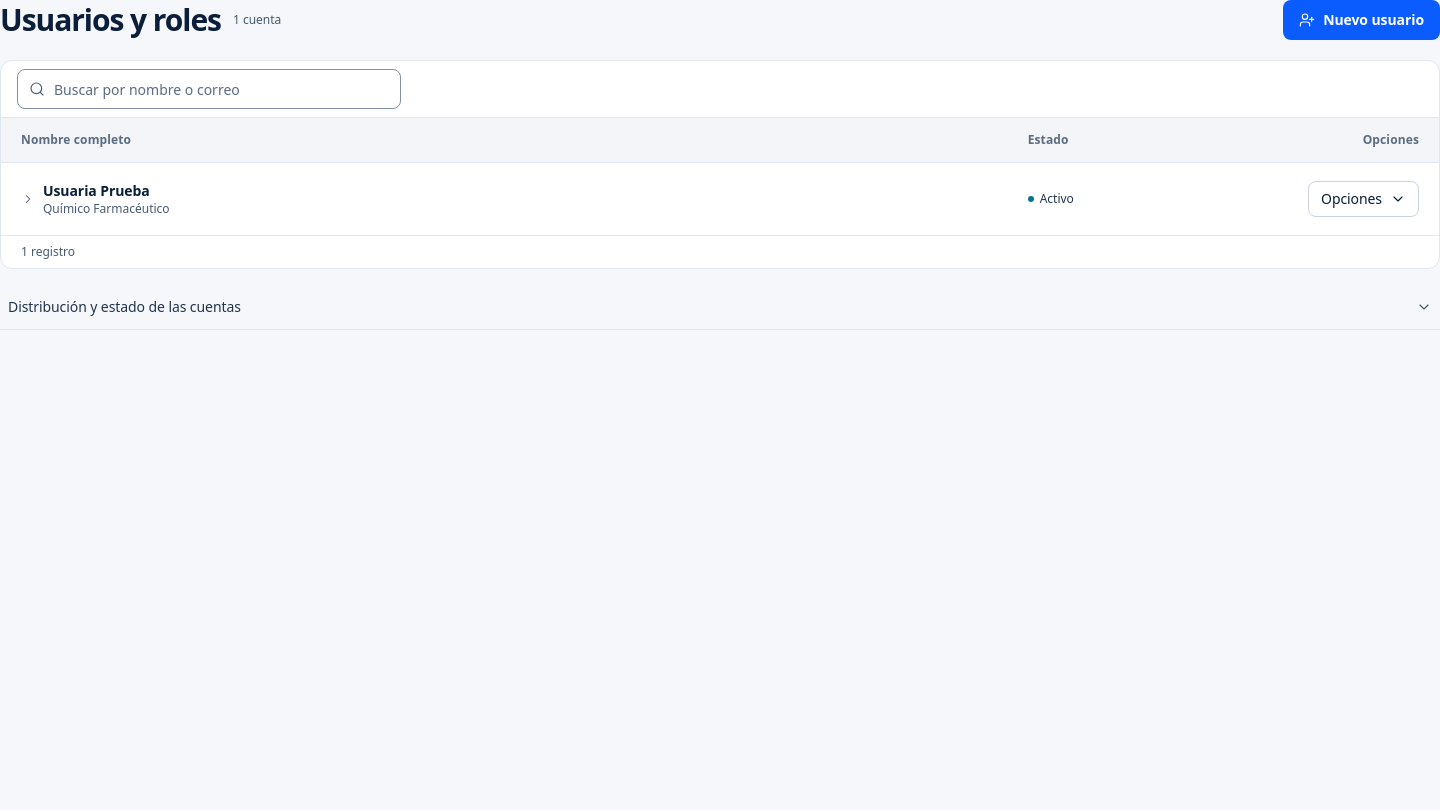
it: UsuariosPage (HU-41, HU-45, RF-17) › tras crear explica la activación (codigo_activacion_emitido=true)
Click the button "Nuevo usuario" at point(1362, 20), box [1283, 0, 1439, 40]
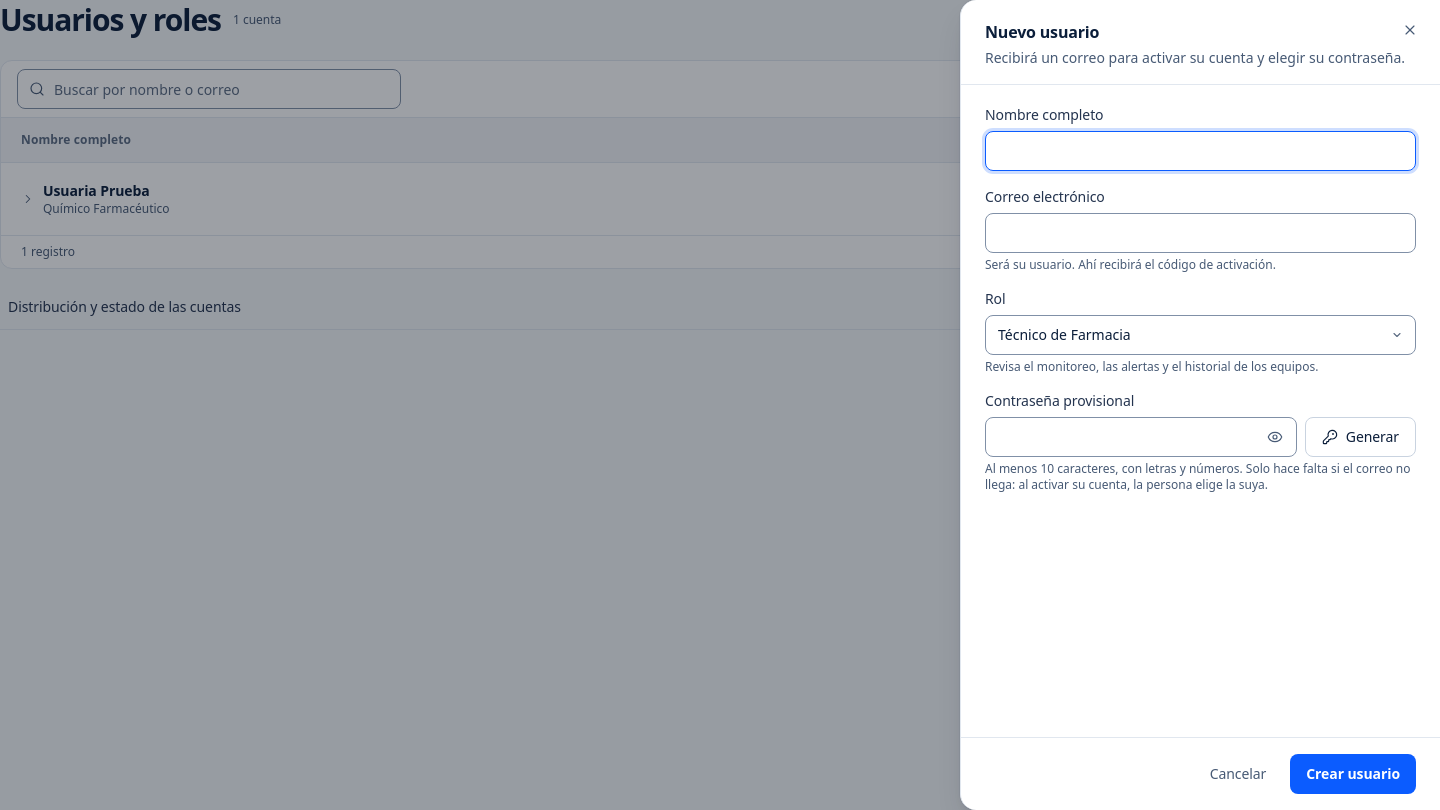
Type "Ana Prueba" into the field labelled "Nombre completo" at point(1200, 151), box [985, 131, 1416, 171]
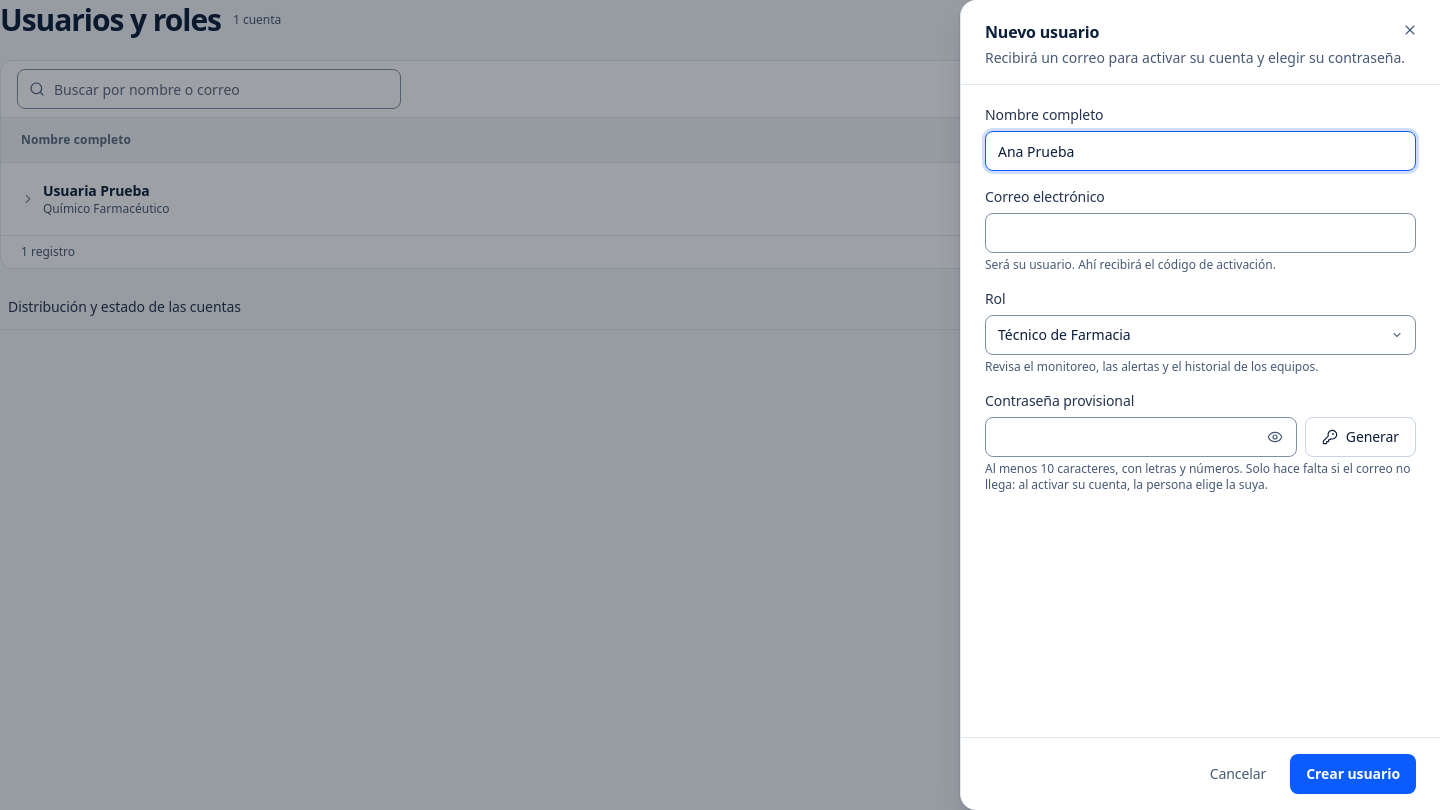
Type "ana@prueba.pe" into the field labelled "Correo electrónico" at point(1200, 233), box [985, 213, 1416, 253]
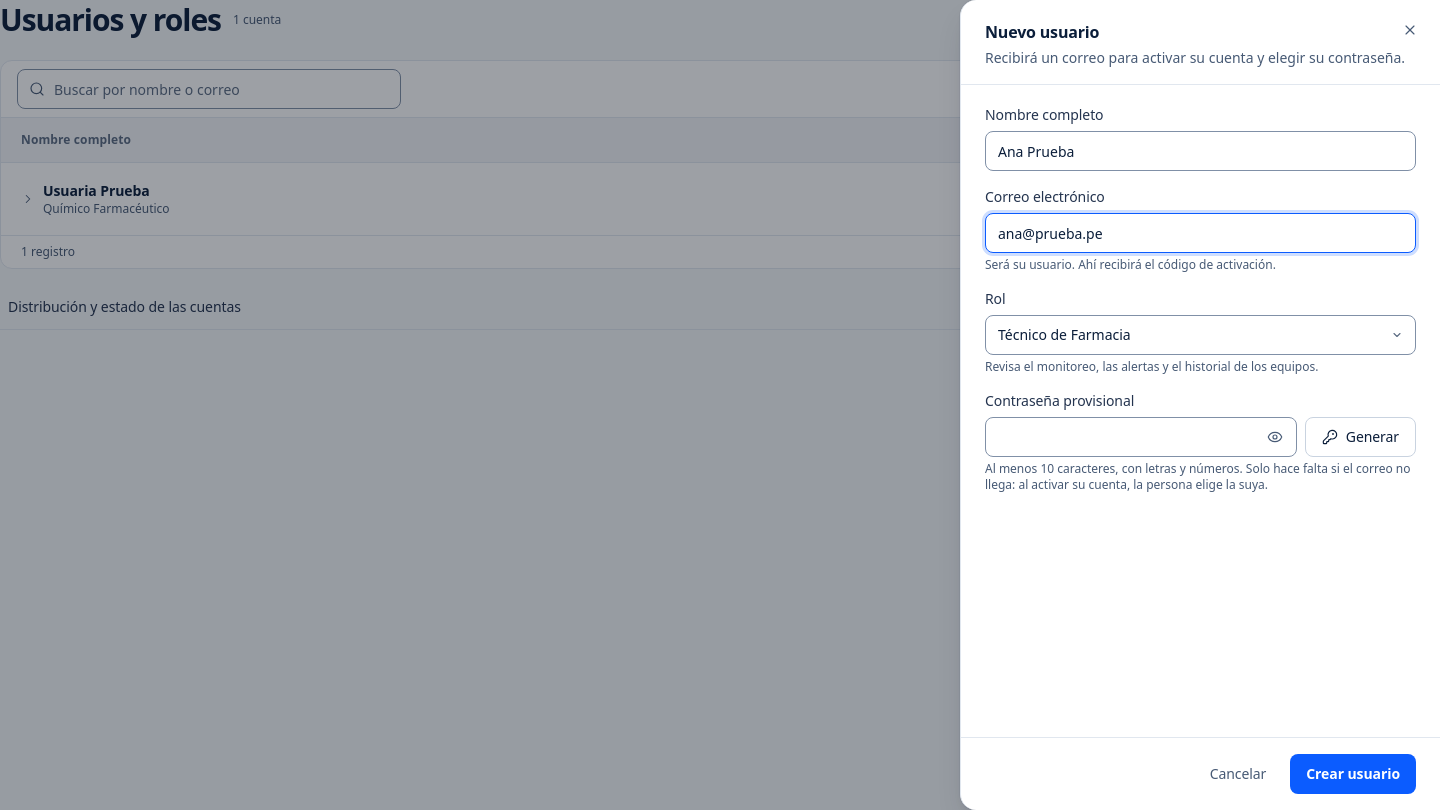
Type "Clave-Segura-2026x" into the password field labelled "Contraseña provisional" at point(1141, 437), box [985, 417, 1297, 457]
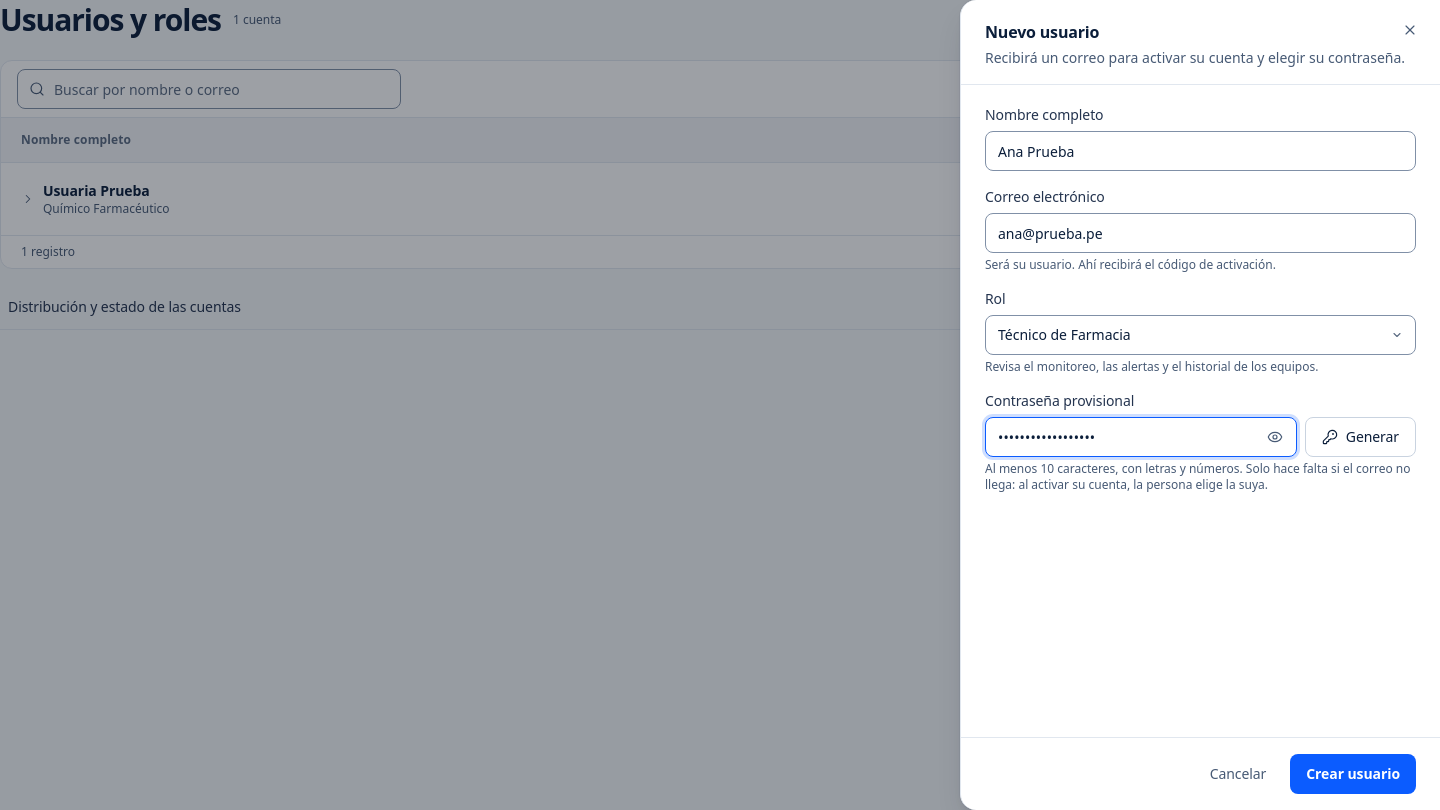
Click the button "Crear usuario" at point(1353, 774), box [1290, 754, 1416, 794]
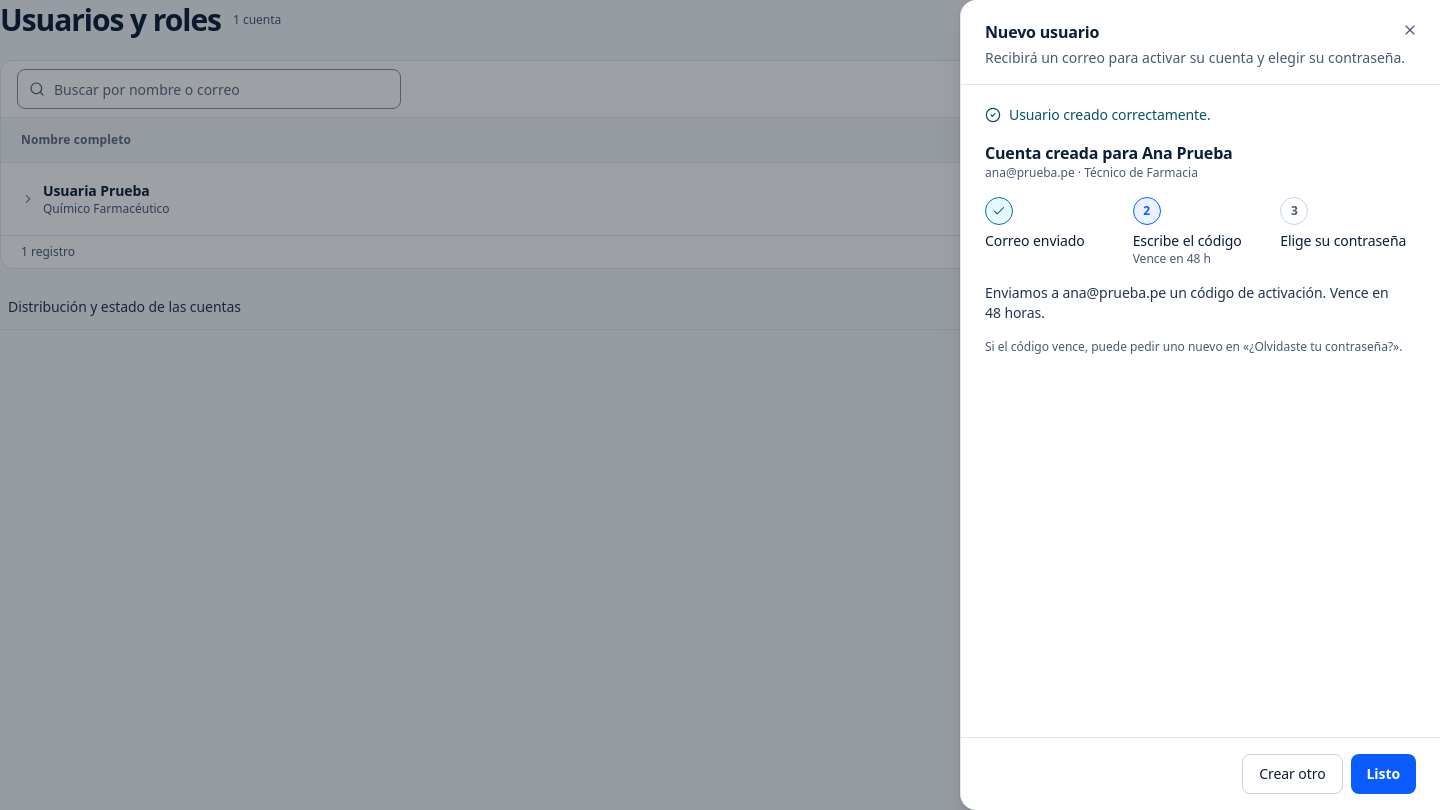
Expected: the text "Usuario creado correctamente." is shown, [985, 105, 1210, 124]
Expected: the text "Enviamos a ana@prueba.pe un código de activación" is shown, [985, 283, 1388, 322]
Expected: the button "Listo" is shown, [1350, 754, 1416, 794]
